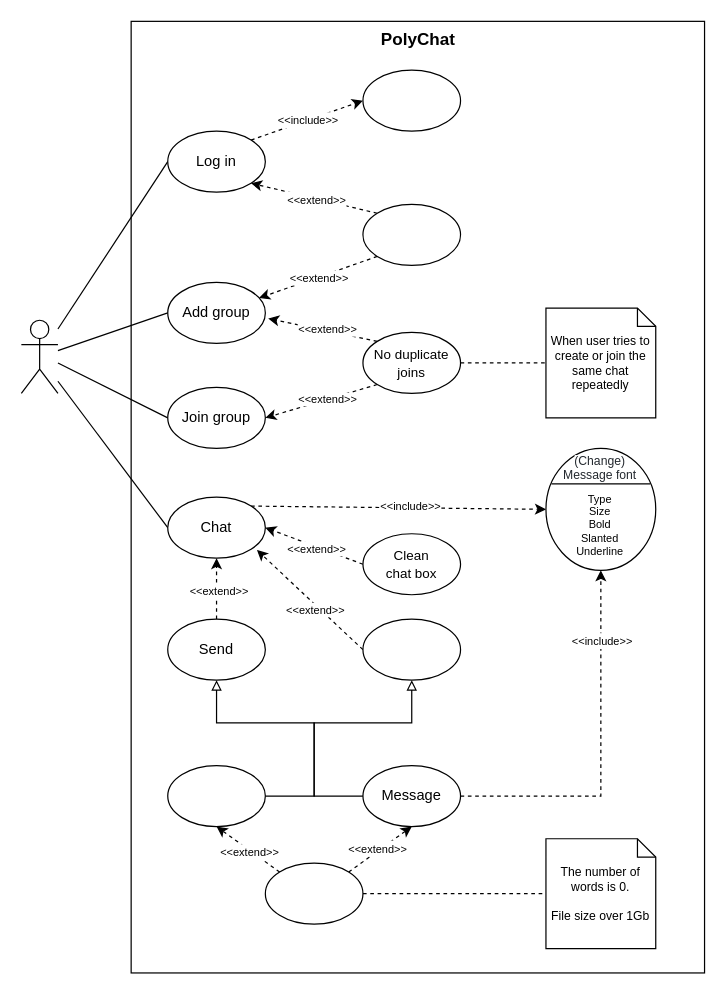
The diagram is 726 pixels wide and 994 high, and some of its shapes have lost their labels. The centre of each missing label's shape, as x and y in pixels:
File: the point at 216,795
Incorrectly formatted or out of limits: the point at 313,893
Insufficient information: the point at 411,234
Save: the point at 411,649
Sufficient information: the point at 411,100
User: the point at 39,356
